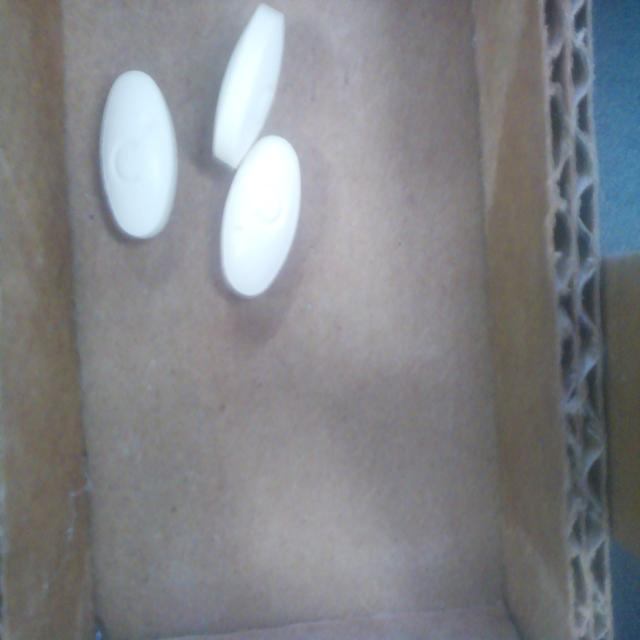pill: (100, 70, 178, 239), (220, 136, 301, 298), (212, 4, 284, 169)
